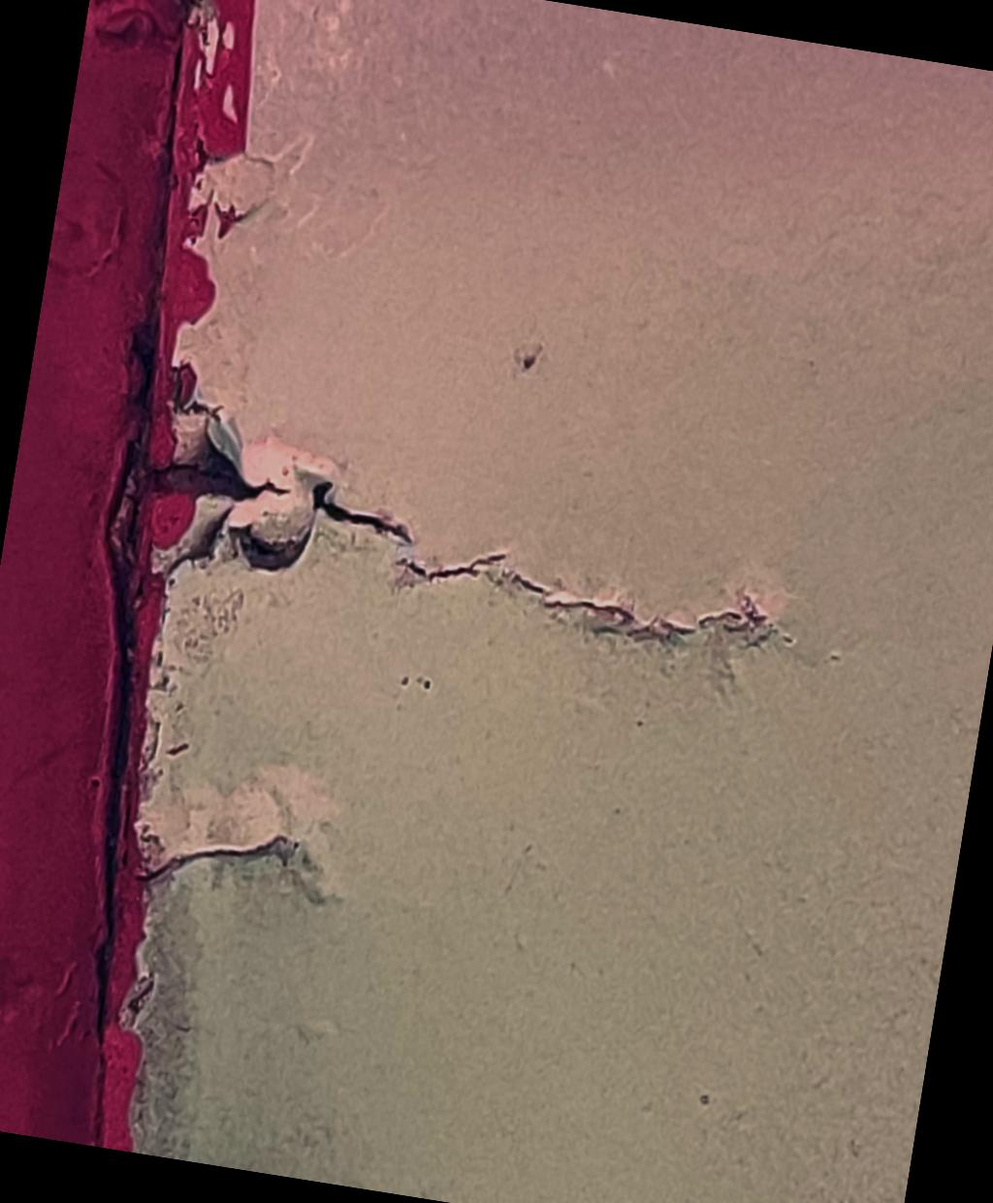crack: (80, 338, 838, 724), (96, 748, 328, 945)
